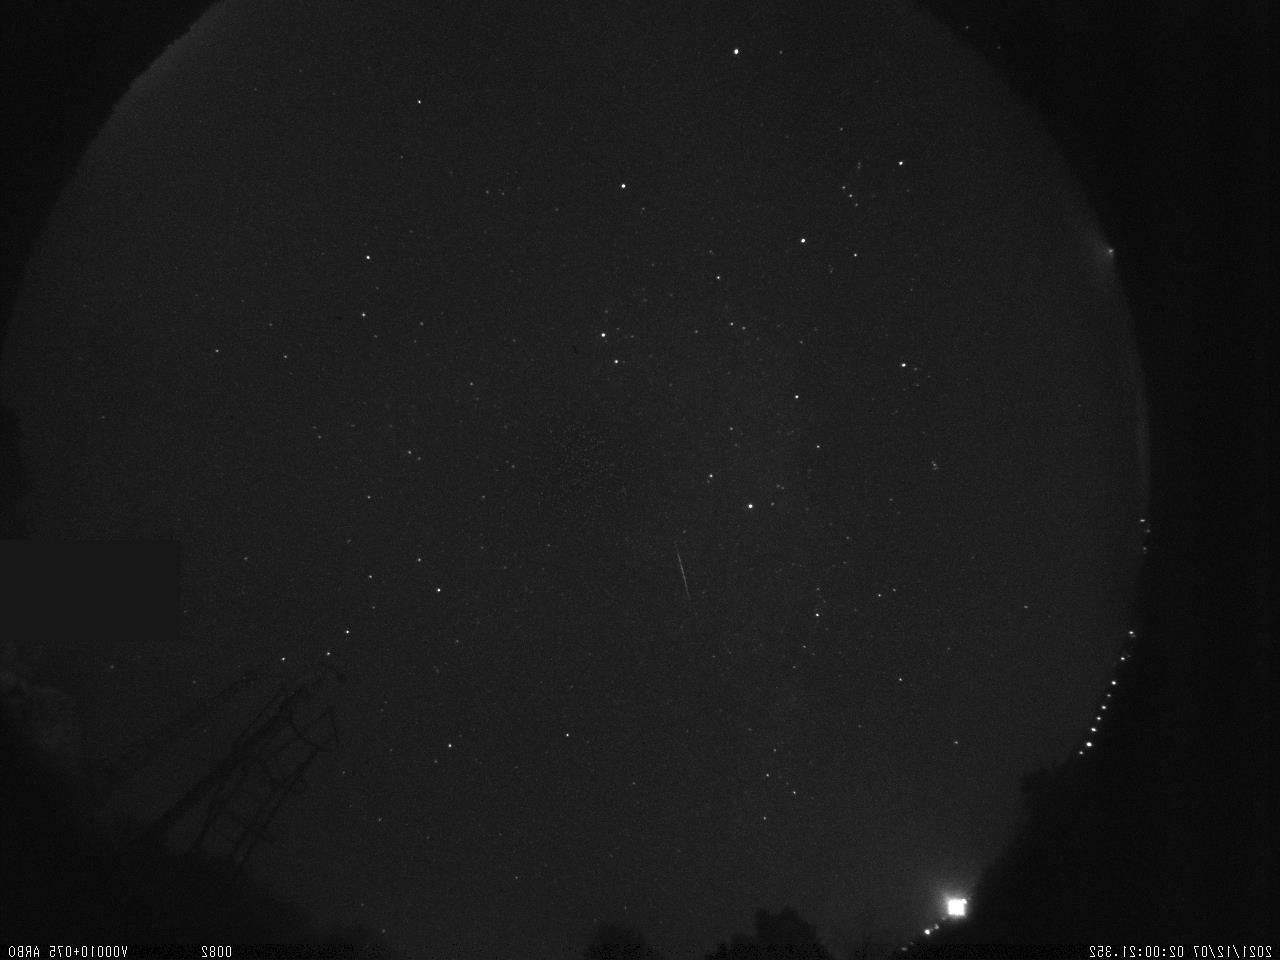meteor: (658, 542, 714, 612)
